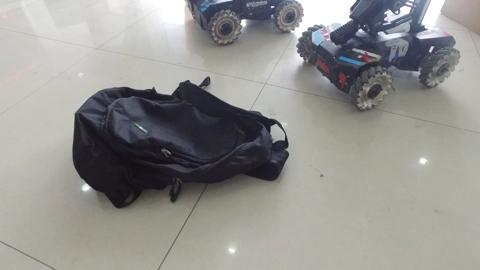bag: (74, 84, 290, 205)
chariot: (298, 1, 459, 111), (186, 1, 304, 46)
